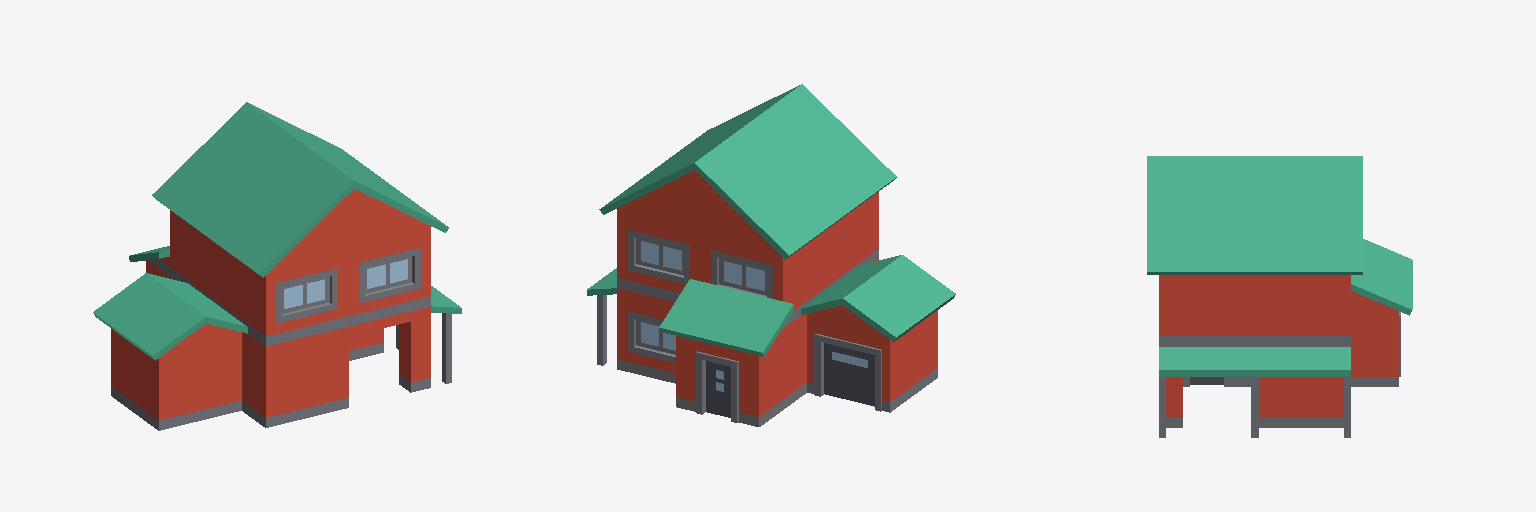
Rendered from city_house_l.obj.
The picture shows the model from 3 angles: view 1: azimuth 30°, elevation 25°; view 2: azimuth 150°, elevation 25°; view 3: azimuth 270°, elevation 25°; orthographic projection.
Parts seen in each view (by area): view 1: mergedBlocks; view 2: mergedBlocks; view 3: mergedBlocks.
Boxes of the visible parts, x1=… form: mergedBlocks: x1=93, y1=102, x2=461, y2=430; mergedBlocks: x1=587, y1=84, x2=955, y2=426; mergedBlocks: x1=1147, y1=156, x2=1412, y2=437.
Size of the model in its own units: 0.8999 by 0.6825 by 0.7092.